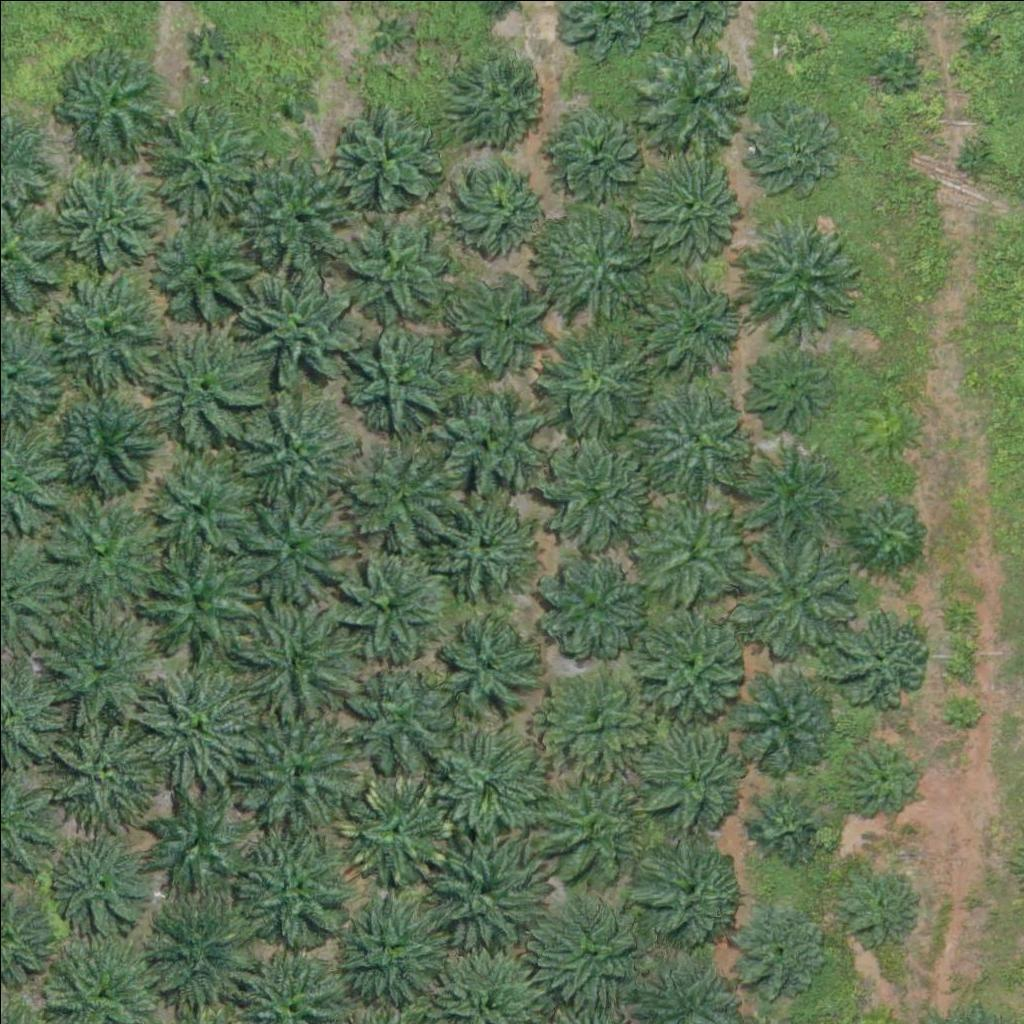Kelapa_Sawit: (44, 708, 169, 834), (36, 597, 161, 723), (140, 662, 265, 788), (136, 892, 261, 1018), (232, 827, 357, 953), (234, 707, 359, 833), (244, 592, 369, 718), (734, 533, 859, 659), (741, 213, 866, 339), (331, 199, 456, 325), (228, 484, 353, 610), (230, 390, 355, 516), (235, 255, 360, 381), (235, 140, 360, 266), (138, 545, 263, 671), (134, 446, 259, 572), (138, 325, 263, 451), (148, 212, 273, 338), (46, 490, 171, 616), (529, 199, 654, 324), (332, 895, 445, 1009), (58, 163, 171, 277), (46, 270, 159, 384), (537, 770, 650, 883), (543, 664, 656, 777), (631, 603, 744, 716), (641, 719, 754, 832), (631, 835, 744, 948), (533, 553, 646, 666), (425, 483, 538, 596), (642, 43, 755, 156), (538, 438, 651, 551), (538, 325, 651, 438), (440, 387, 553, 500), (326, 97, 439, 210), (54, 45, 167, 158), (43, 383, 156, 496), (347, 435, 459, 549), (339, 774, 451, 887), (340, 658, 452, 771), (433, 605, 545, 718), (433, 729, 545, 842), (426, 831, 538, 944), (535, 896, 647, 1009), (332, 549, 444, 662), (634, 487, 746, 600), (733, 436, 845, 549), (638, 380, 750, 493), (636, 147, 748, 260), (345, 323, 457, 436), (148, 97, 260, 210), (49, 834, 149, 935), (726, 897, 826, 998), (734, 666, 834, 767), (745, 99, 845, 200), (642, 271, 742, 372), (544, 99, 644, 200), (454, 271, 554, 372), (452, 154, 552, 255), (454, 41, 554, 142), (147, 794, 247, 894), (830, 604, 930, 704), (833, 858, 921, 946), (835, 730, 923, 818), (746, 347, 833, 435), (849, 494, 924, 570), (747, 788, 822, 863), (185, 22, 235, 72), (369, 7, 419, 57), (266, 76, 316, 126), (957, 21, 995, 59), (956, 140, 994, 178), (943, 689, 980, 727), (771, 28, 809, 65), (876, 47, 913, 85)
